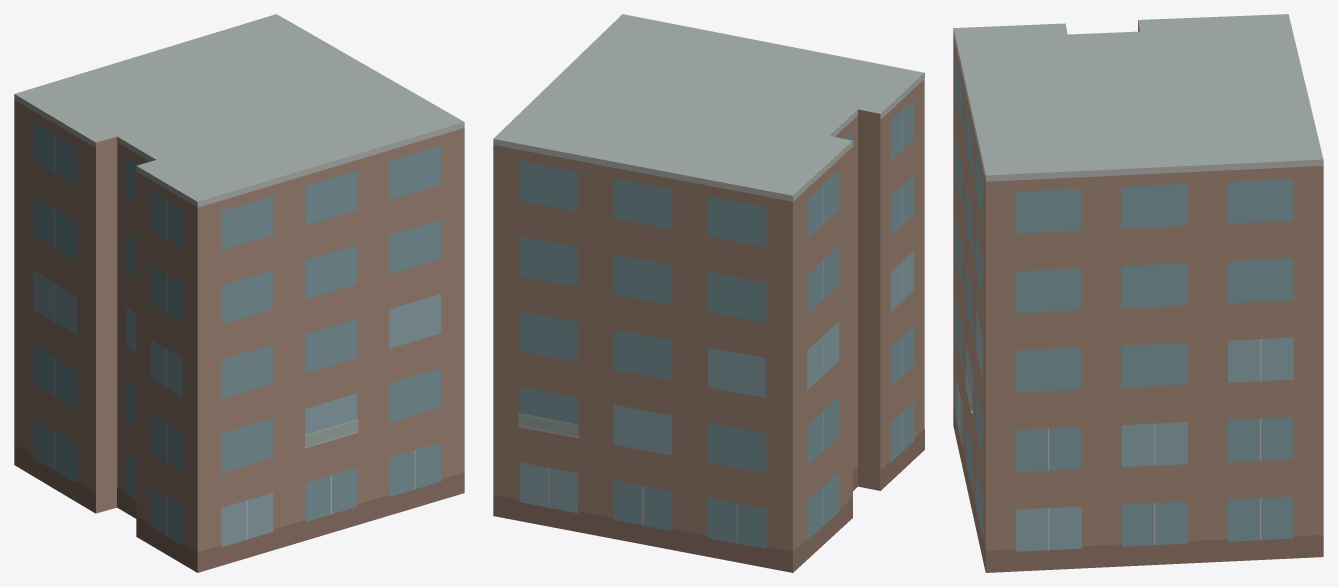
The model's file is survey-upis-32655348.glb.
3 renders of one model, left to right at view 1: azimuth 30°, elevation 25°; view 2: azimuth 150°, elevation 25°; view 3: azimuth 270°, elevation 25°, orthographic. The views are drawn at different scales.
Parts seen in each view (by area): view 1: survey-upis-32655348.tmp; view 2: survey-upis-32655348.tmp; view 3: survey-upis-32655348.tmp.
Boxes of the visible parts, <box> form: survey-upis-32655348.tmp: <box>14,14,464,572</box>; survey-upis-32655348.tmp: <box>493,14,924,572</box>; survey-upis-32655348.tmp: <box>953,14,1323,572</box>.
Bounding box in the file's own units: 13.52 × 15.5 × 13.1.
